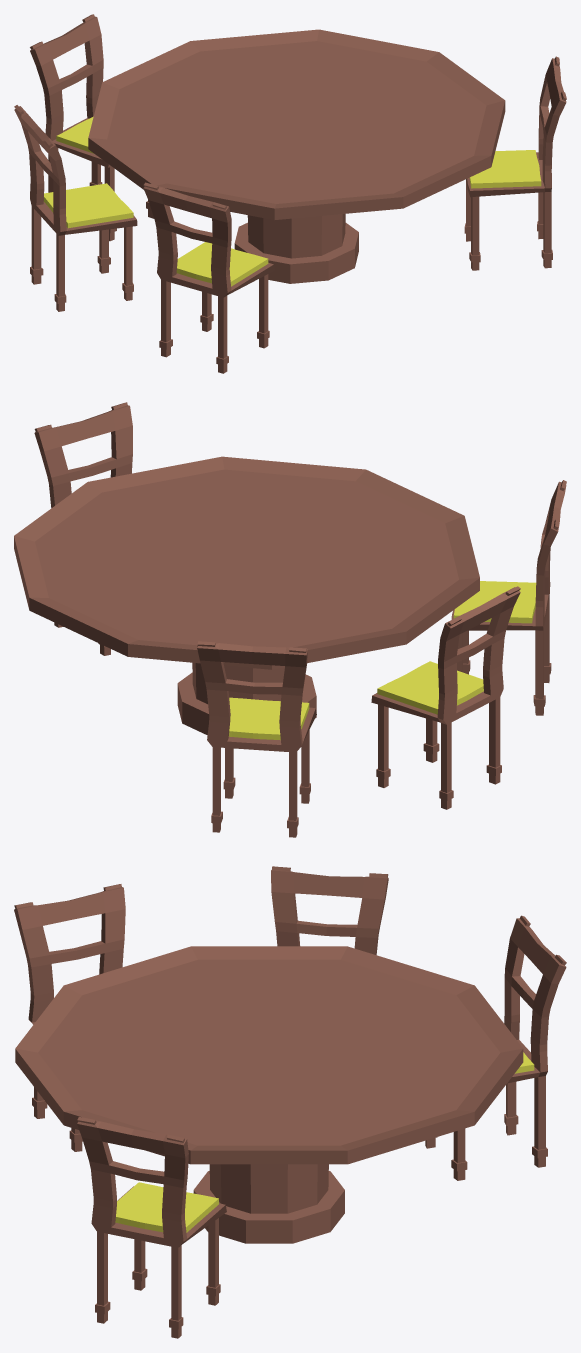
The model's file is table4.fbx.
3 views of the same model, one above another, from view 1: azimuth 30°, elevation 25°; view 2: azimuth 150°, elevation 25°; view 3: azimuth 270°, elevation 25° (orthographic). The views are drawn at different scales.
Parts seen in each view (by area): view 1: table.004, chair.022, chair.017, chair.019, chair.020; view 2: table.004, chair.020, chair.017, chair.022, chair.019; view 3: table.004, chair.019, chair.020, chair.022, chair.017.
Boxes of the visible parts, box(x1,y1,x2,y2) form: table.004: box(88, 29, 505, 283); chair.022: box(143, 182, 274, 373); chair.017: box(14, 105, 137, 311); chair.019: box(464, 56, 566, 270); chair.020: box(30, 14, 154, 241); table.004: box(14, 456, 479, 735); chair.020: box(197, 641, 316, 837); chair.017: box(371, 586, 520, 809); chair.022: box(451, 480, 566, 715); chair.019: box(34, 402, 132, 655); table.004: box(15, 946, 523, 1243); chair.019: box(77, 1117, 226, 1338); chair.020: box(425, 915, 566, 1180); chair.022: box(14, 884, 125, 1151); chair.017: box(271, 866, 388, 954).
Bounding box in the file's own units: 2.56 × 0.9045 × 2.18.
